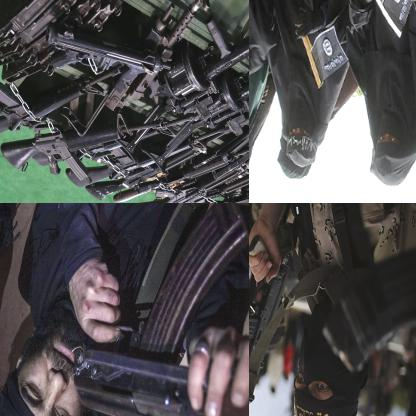rifle: (73, 203, 248, 415), (324, 232, 415, 415), (6, 110, 195, 183), (107, 0, 214, 121), (135, 13, 248, 108), (67, 124, 228, 189), (0, 61, 126, 139), (132, 133, 248, 202), (249, 245, 292, 415), (198, 83, 248, 195), (177, 175, 248, 202)
